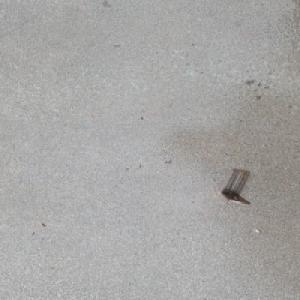MetalPart: (219, 168, 251, 204)
